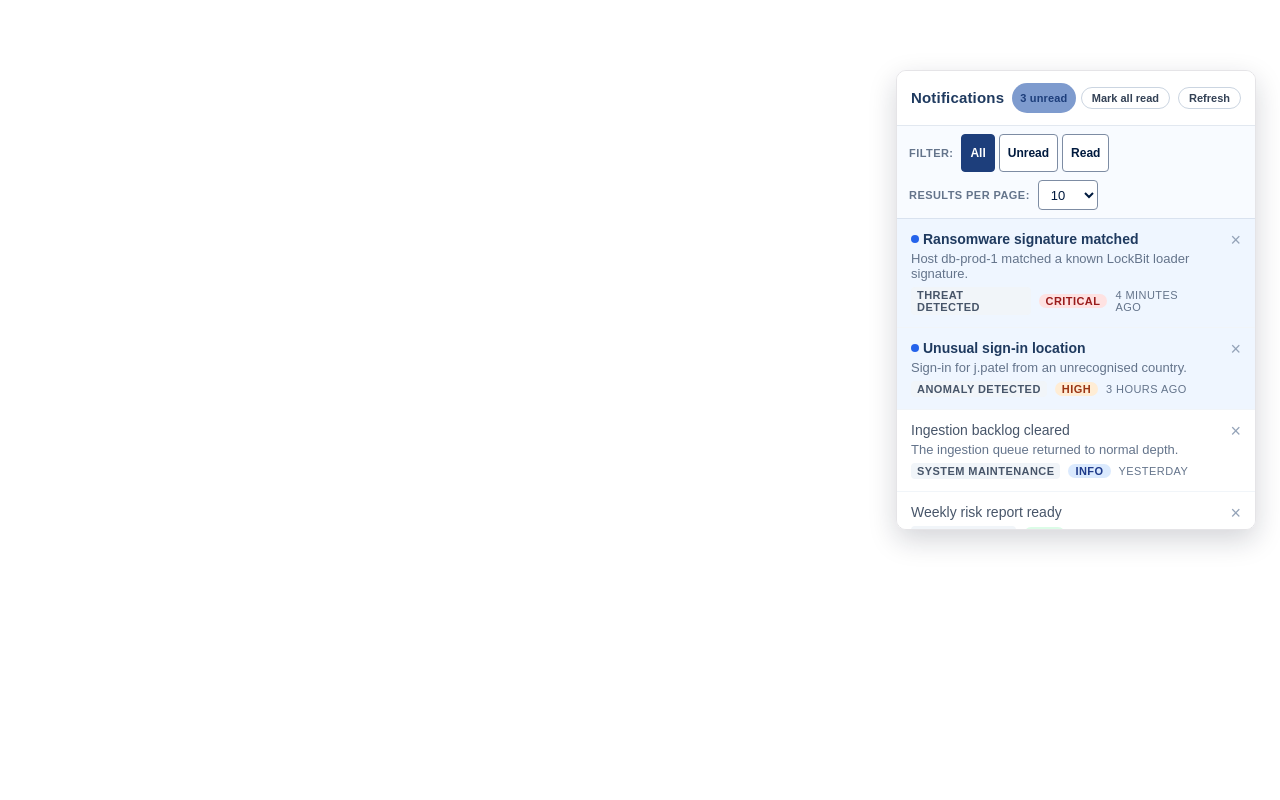
it: NotificationPanel on the mock provider › rolls back a delete the provider refuses
Click the button named "Remove Ransomware signature matched" at (1236, 240), box [1216, 219, 1255, 261]
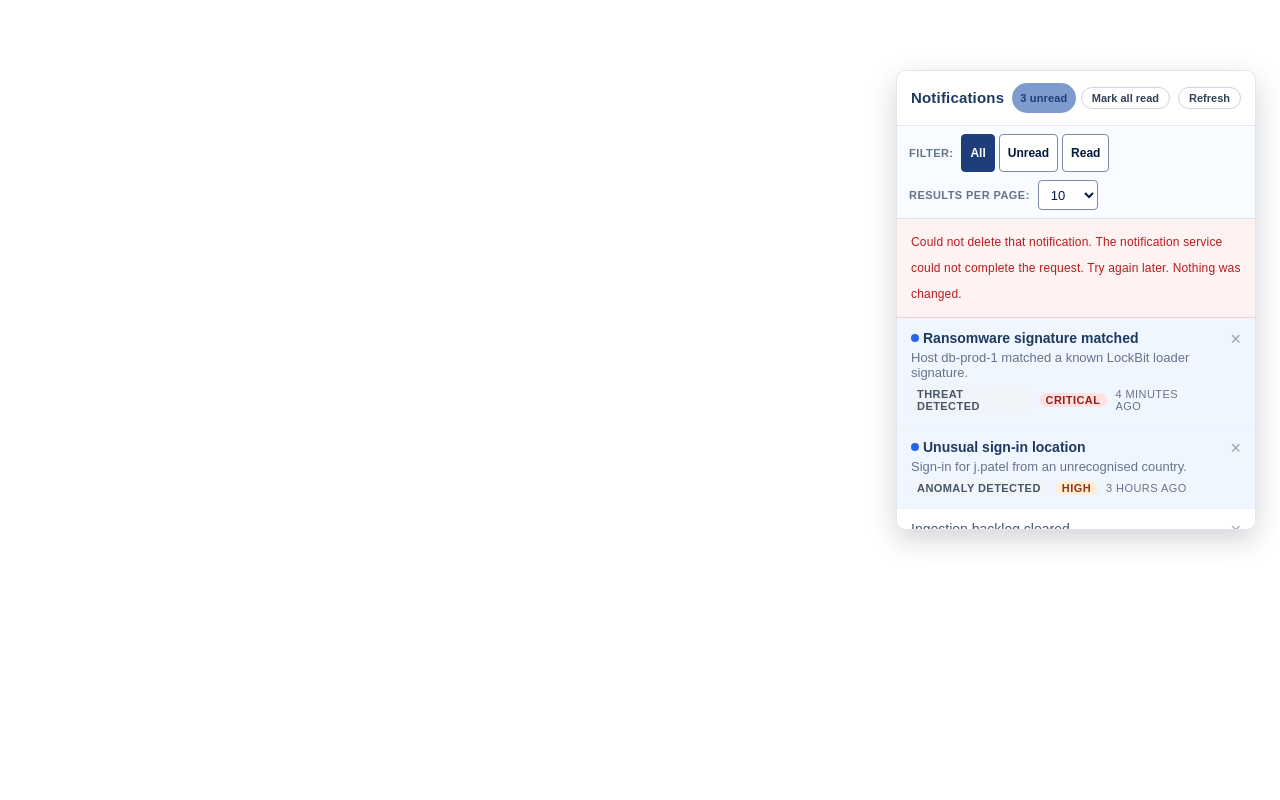
Expected: the message shows "Could not delete that notification", [911, 235, 1241, 301]
